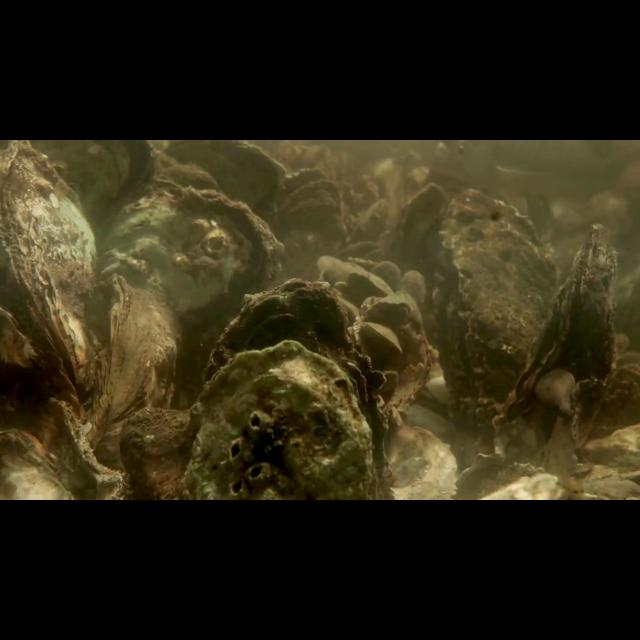Oyster-Closed: (176, 336, 385, 497), (202, 276, 382, 438), (104, 187, 286, 324), (3, 142, 101, 394), (80, 274, 181, 448), (43, 395, 129, 498), (2, 426, 60, 482), (340, 266, 390, 304), (360, 294, 414, 324)
Oyster-Open: (490, 221, 624, 466), (438, 184, 564, 424), (278, 163, 350, 235), (360, 321, 407, 355)
